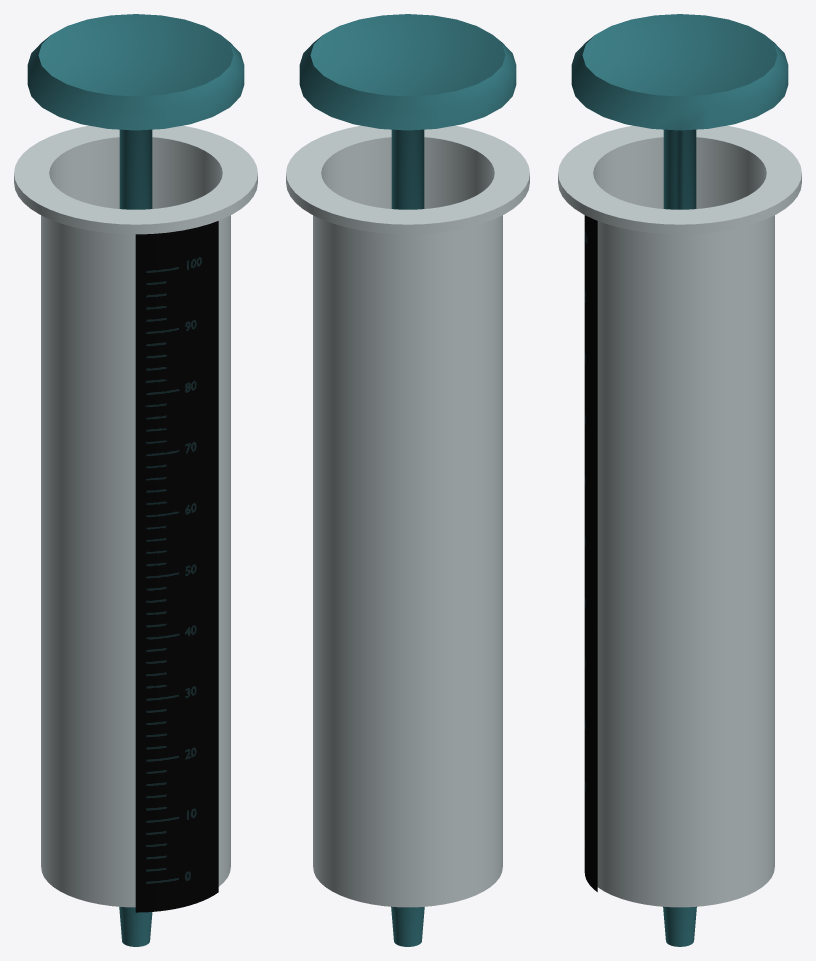
Rendered from VLAB_gas_syringe.fbx.
3 renders of one model, left to right at view 1: azimuth 30°, elevation 25°; view 2: azimuth 150°, elevation 25°; view 3: azimuth 270°, elevation 25°, orthographic.
Visible parts, largest first — view 1: VLAB_gas_syringe_Barrel_VIS, VLAB_gas_syringe_Scale_VIS, VLAB_gas_syringe_Plunger_VIS, VLAB_gas_syringe_Tip_VIS; view 2: VLAB_gas_syringe_Barrel_VIS, VLAB_gas_syringe_Plunger_VIS, VLAB_gas_syringe_Tip_VIS; view 3: VLAB_gas_syringe_Barrel_VIS, VLAB_gas_syringe_Plunger_VIS, VLAB_gas_syringe_Scale_VIS, VLAB_gas_syringe_Tip_VIS.
Boxes of the visible parts, left/top/right/bottom form: VLAB_gas_syringe_Barrel_VIS: left=14, top=125, right=257, bottom=907; VLAB_gas_syringe_Scale_VIS: left=135, top=221, right=218, bottom=912; VLAB_gas_syringe_Plunger_VIS: left=27, top=14, right=244, bottom=209; VLAB_gas_syringe_Tip_VIS: left=119, top=906, right=152, bottom=946; VLAB_gas_syringe_Barrel_VIS: left=286, top=125, right=529, bottom=907; VLAB_gas_syringe_Plunger_VIS: left=299, top=14, right=516, bottom=209; VLAB_gas_syringe_Tip_VIS: left=391, top=906, right=424, bottom=946; VLAB_gas_syringe_Barrel_VIS: left=558, top=125, right=801, bottom=907; VLAB_gas_syringe_Plunger_VIS: left=571, top=14, right=788, bottom=209; VLAB_gas_syringe_Scale_VIS: left=584, top=215, right=597, bottom=891; VLAB_gas_syringe_Tip_VIS: left=663, top=906, right=696, bottom=946.
Bounding box in the file's own units: 0.045 × 0.1803 × 0.045.
